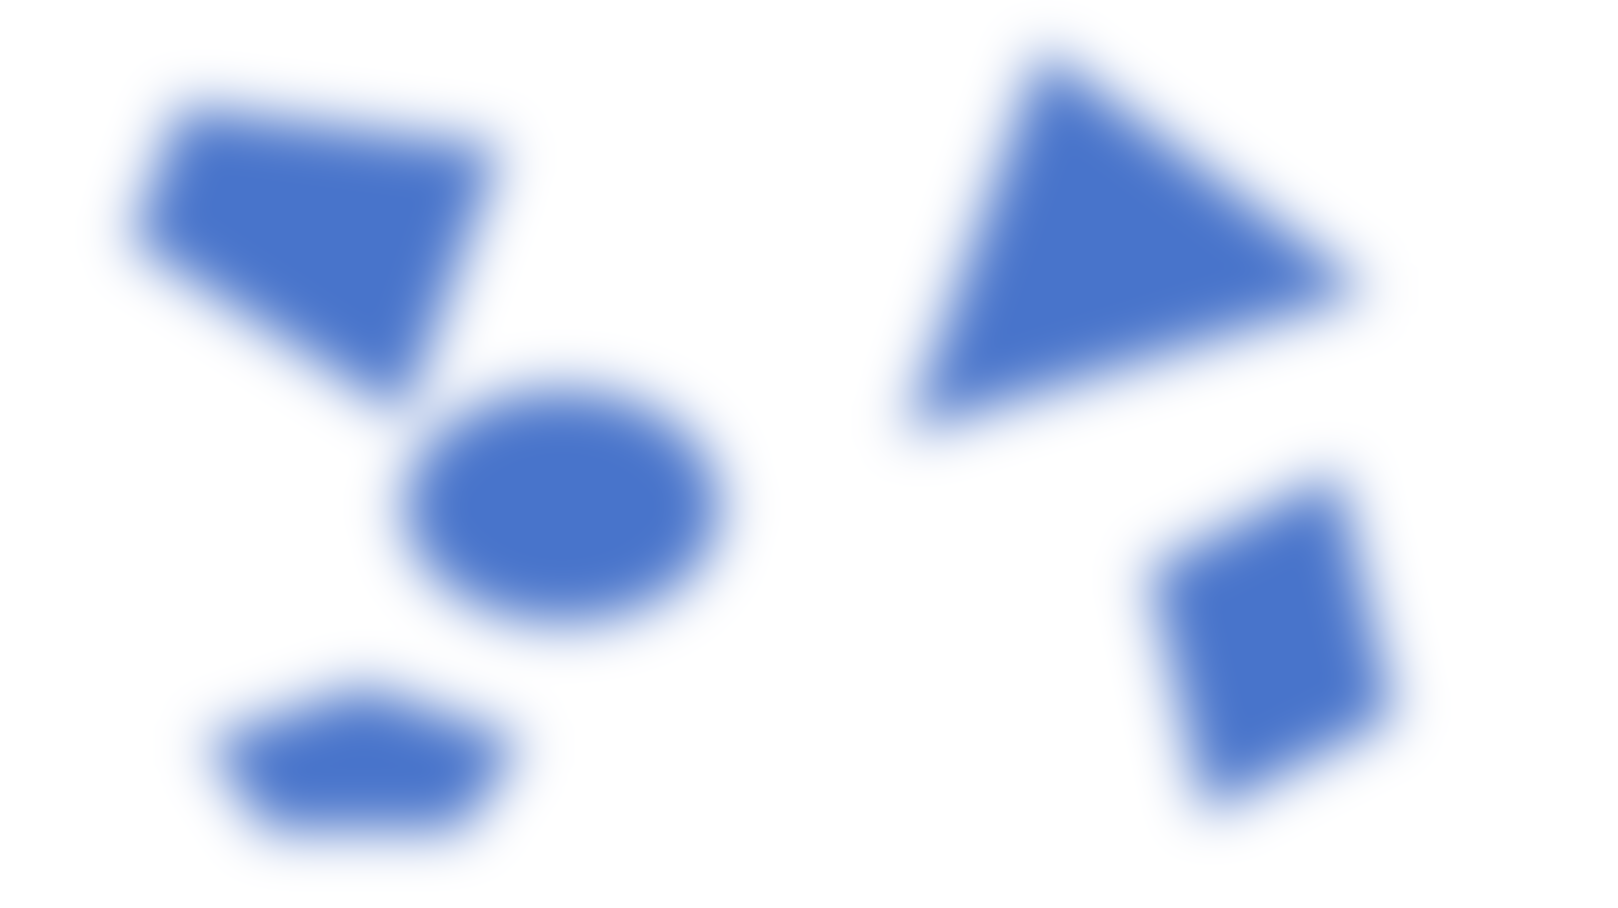circle: (404, 371, 732, 631)
parallelogram: (1132, 466, 1404, 824)
pentagon: (177, 663, 540, 868)
trapezium: (104, 79, 526, 405)
triangle: (863, 32, 1415, 459)
